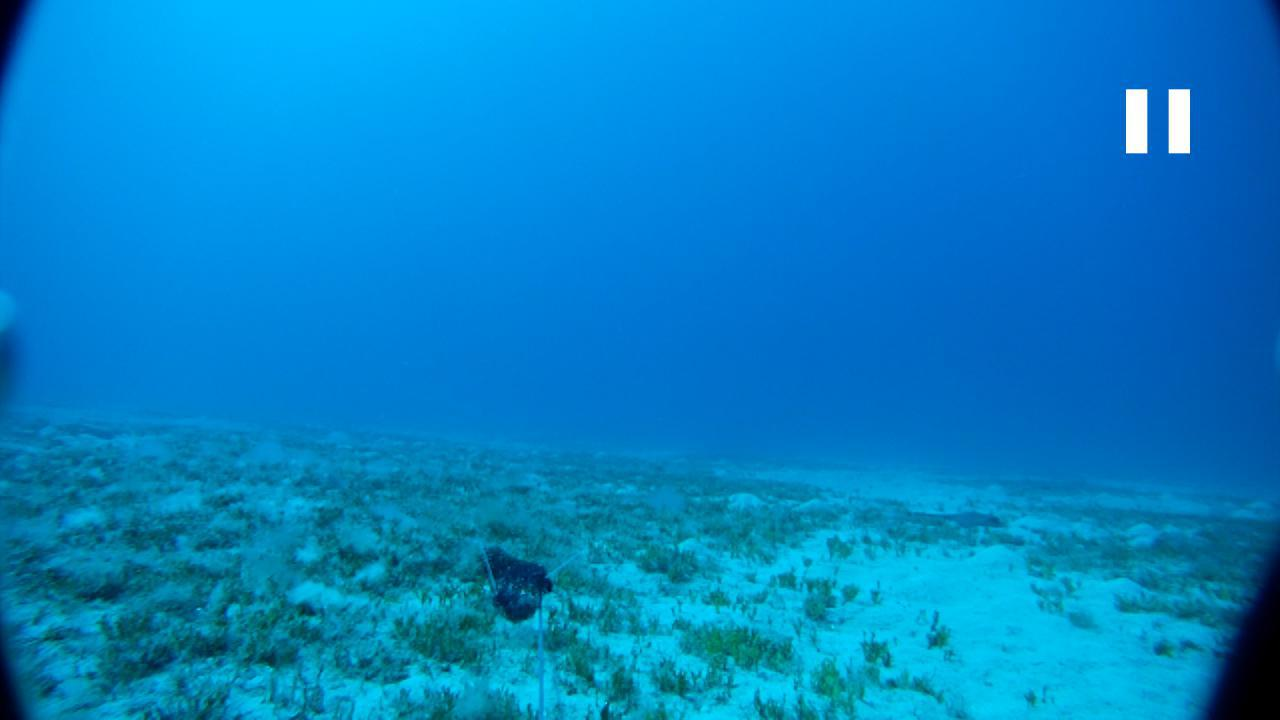dasyatis: (907, 510, 1005, 530)
